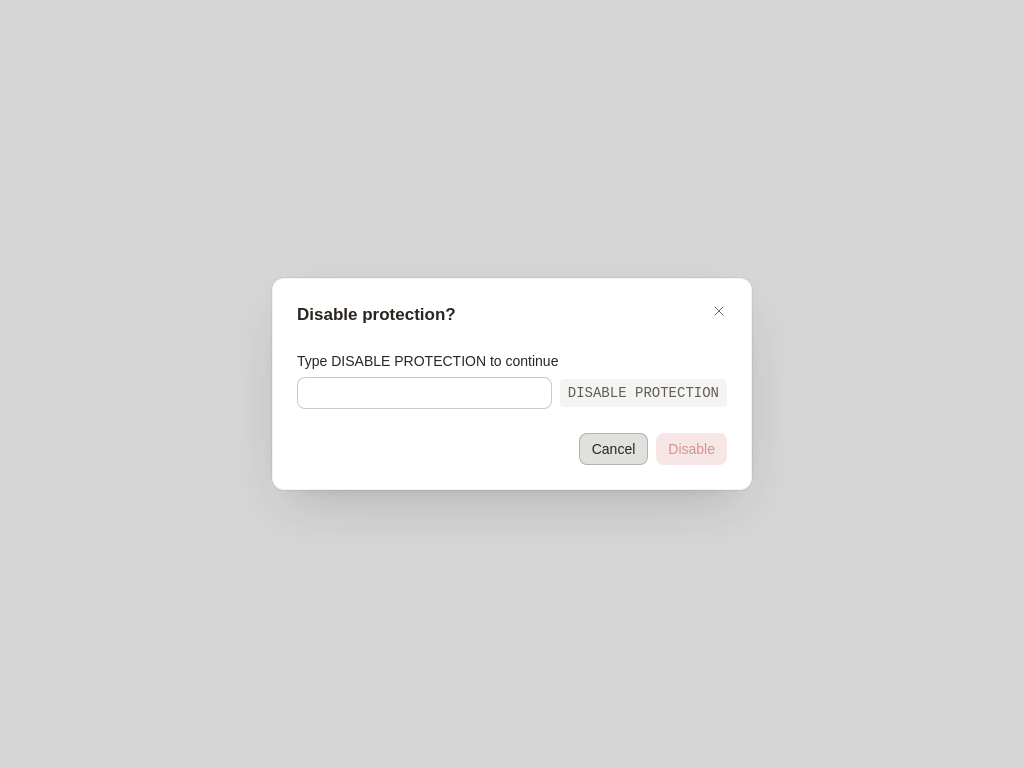
Test: DangerousConfirmDialog › gates the confirm on the exact phrase, ignoring case and surrounding space
The image size is (1024, 768).
Expected: the button "Disable" is disabled, [656,433,727,465]
In the field: (424, 393) [297,377,552,409], type "DISABLE"
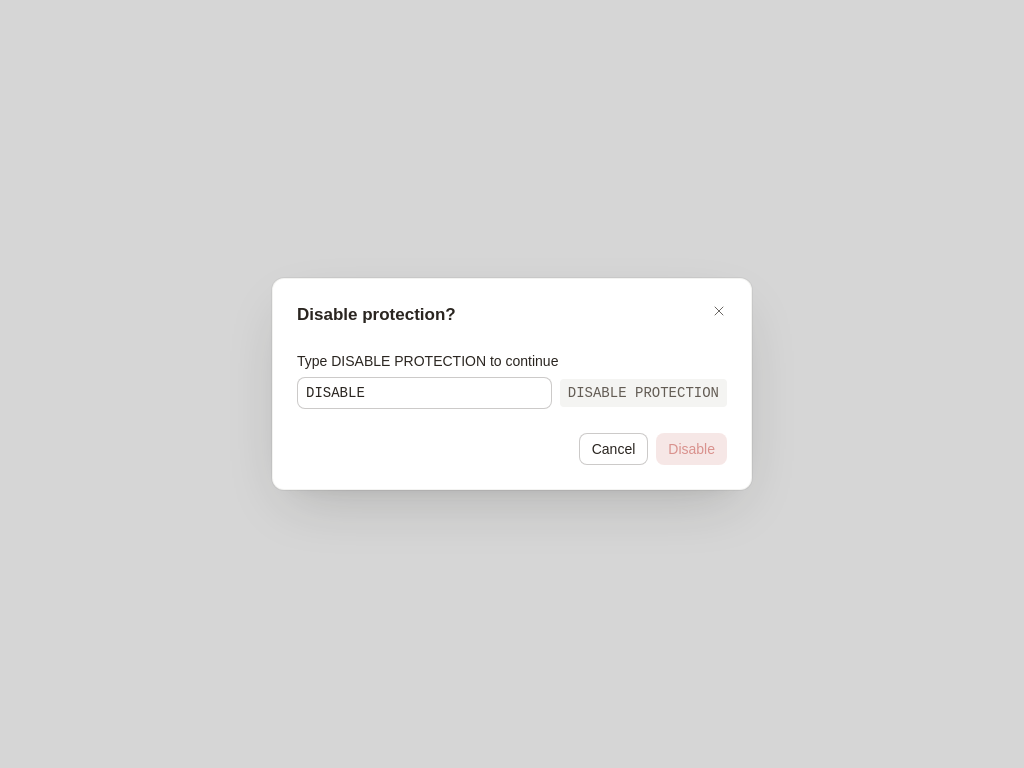
Expected: the button "Disable" is disabled, [656,433,727,465]
Replace the text in the field with " disable protection ": (424, 393) [297,377,552,409]
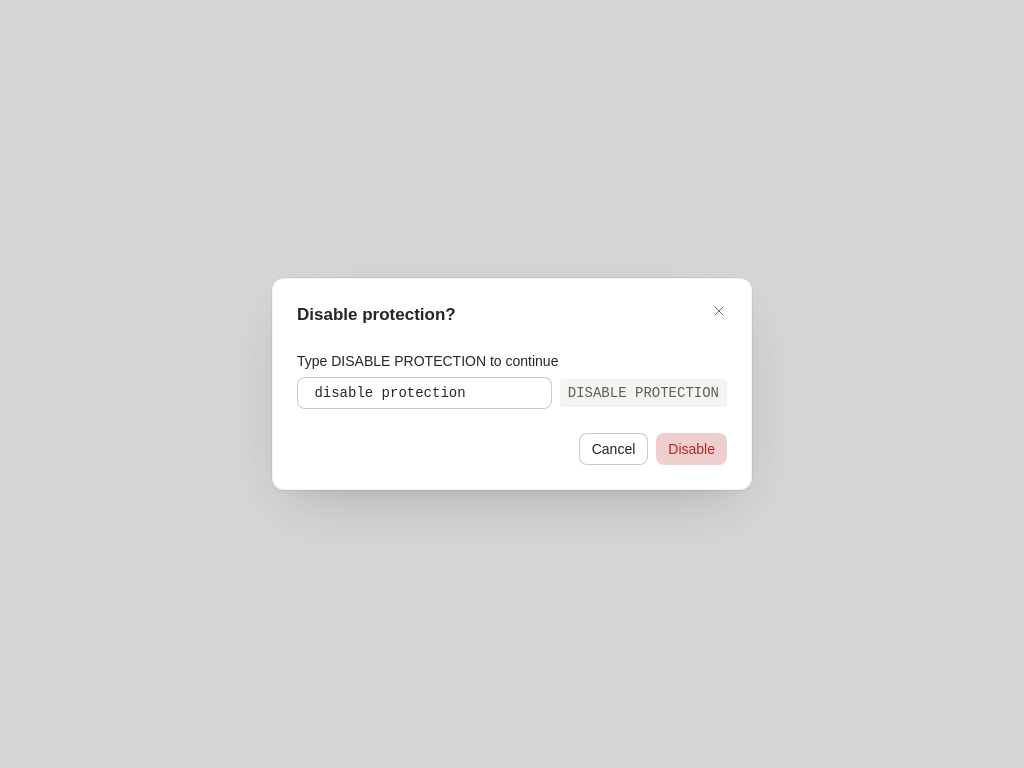
Expected: the button "Disable" is enabled, [656,433,727,465]
